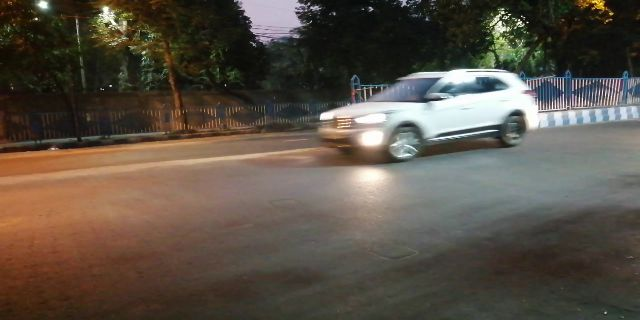Car: (312, 68, 553, 158)
